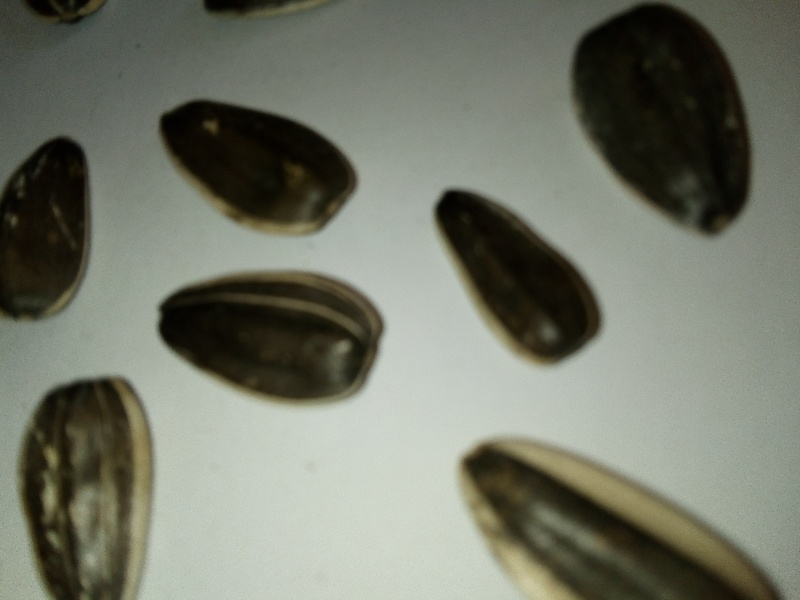girasol: (142, 249, 404, 409), (9, 351, 169, 600), (146, 79, 373, 254), (424, 179, 628, 372)
